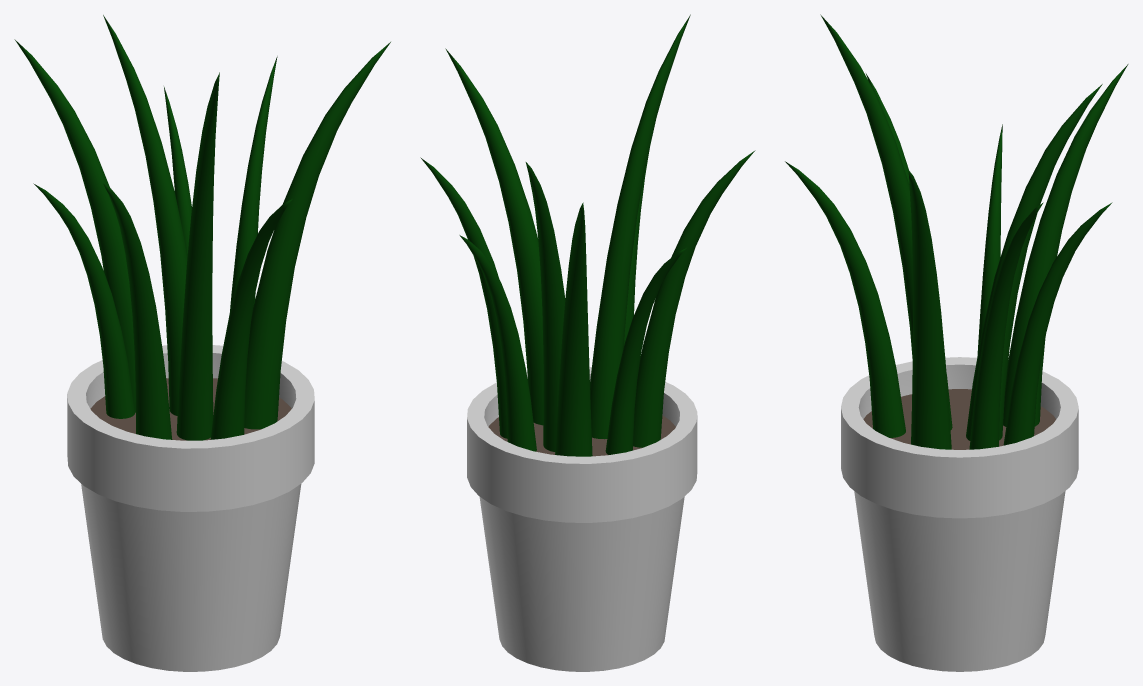
File: Plante4_2.fbx
The picture shows the model from 3 angles, left to right: view 1: azimuth 30°, elevation 25°; view 2: azimuth 150°, elevation 25°; view 3: azimuth 270°, elevation 25°; orthographic projection. The views are drawn at different scales.
Parts seen in each view (by area): view 1: pCylinder725, pCone27, pCone28, pCone25, pCone21, pCone22, pCone20, pCone23, pCone24, pCone26, pCylinder724; view 2: pCylinder725, pCone28, pCone27, pCone21, pCone22, pCone25, pCone26, pCone23, pCone24, pCylinder724, pCone20; view 3: pCylinder725, pCone27, pCone20, pCone22, pCone26, pCone24, pCone28, pCone25, pCone23, pCylinder724.
Boxes of the visible parts, bbox=[...] form: pCylinder725: bbox=[67, 345, 314, 671]; pCone27: bbox=[244, 42, 390, 429]; pCone28: bbox=[176, 72, 219, 440]; pCone25: bbox=[103, 15, 187, 415]; pCone21: bbox=[103, 183, 172, 439]; pCone22: bbox=[14, 39, 135, 412]; pCone20: bbox=[210, 199, 292, 439]; pCone23: bbox=[33, 183, 135, 418]; pCone24: bbox=[230, 56, 277, 311]; pCone26: bbox=[164, 87, 191, 255]; pCylinder724: bbox=[90, 378, 291, 440]; pCylinder725: bbox=[467, 366, 697, 671]; pCone28: bbox=[590, 14, 690, 439]; pCone27: bbox=[445, 48, 543, 425]; pCone21: bbox=[633, 150, 755, 447]; pCone22: bbox=[555, 202, 592, 456]; pCone25: bbox=[525, 162, 565, 451]; pCone26: bbox=[459, 235, 536, 451]; pCone23: bbox=[605, 247, 687, 454]; pCone24: bbox=[420, 157, 507, 438]; pCylinder724: bbox=[488, 415, 675, 456]; pCone20: bbox=[624, 149, 649, 345]; pCylinder725: bbox=[841, 357, 1078, 671]; pCone27: bbox=[908, 170, 951, 449]; pCone20: bbox=[785, 161, 905, 437]; pCone22: bbox=[1003, 64, 1128, 426]; pCone26: bbox=[1003, 202, 1112, 445]; pCone24: bbox=[969, 202, 1043, 449]; pCone28: bbox=[820, 14, 952, 429]; pCone25: bbox=[966, 84, 1102, 440]; pCone23: bbox=[977, 124, 1002, 356]; pCylinder724: bbox=[863, 389, 1055, 449].
Bounding box in the file's own units: 16.25 × 31.25 × 16.23.
